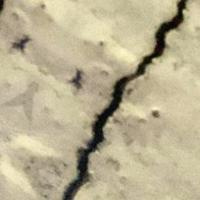crack: (65, 0, 199, 199)
